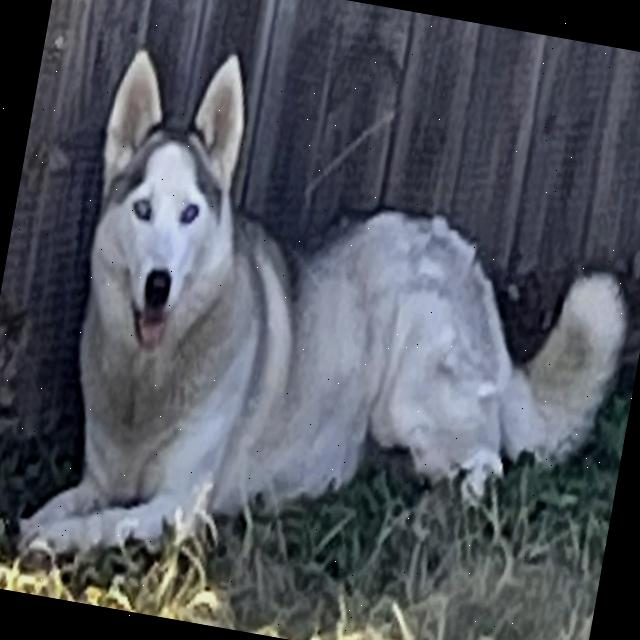siberian_husky_dog: (56, 17, 280, 390)
